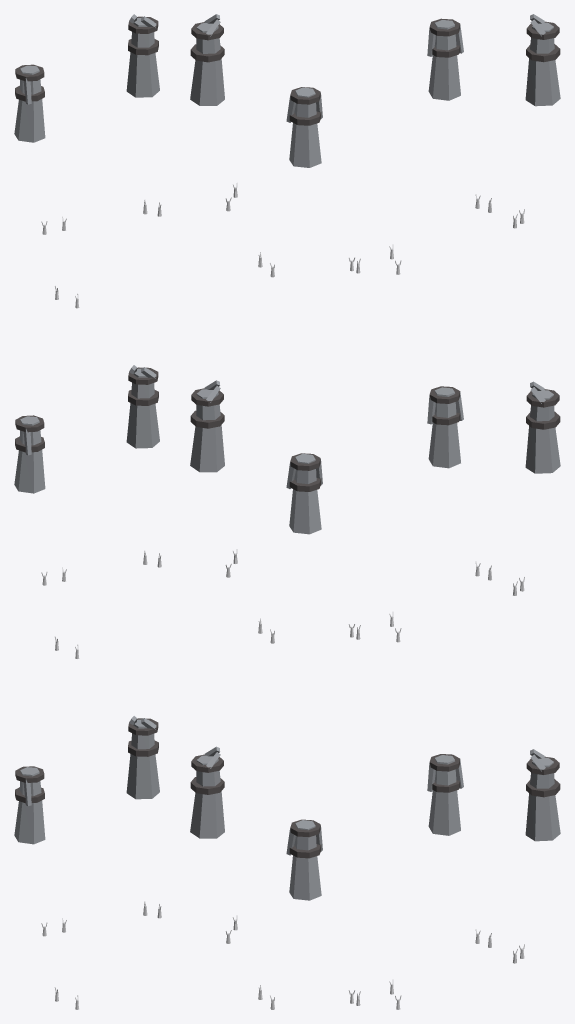
The model's file is Circle9Folk1.obj.
3 views of the same model, side by side, from view 1: azimuth 30°, elevation 25°; view 2: azimuth 150°, elevation 25°; view 3: azimuth 330°, elevation 25° (orthographic). The views are drawn at different scales.
Parts seen in each view (by area): view 1: Circle9Folk1; view 2: Circle9Folk1; view 3: Circle9Folk1.
Boxes of the visible parts, bbox=[...] form: Circle9Folk1: bbox=[14, 14, 161, 1009]; Circle9Folk1: bbox=[190, 14, 360, 1009]; Circle9Folk1: bbox=[389, 14, 560, 1009].
Bounding box in the file's own units: 29.29 × 202 × 21.78.
1 material, 1 textured.
